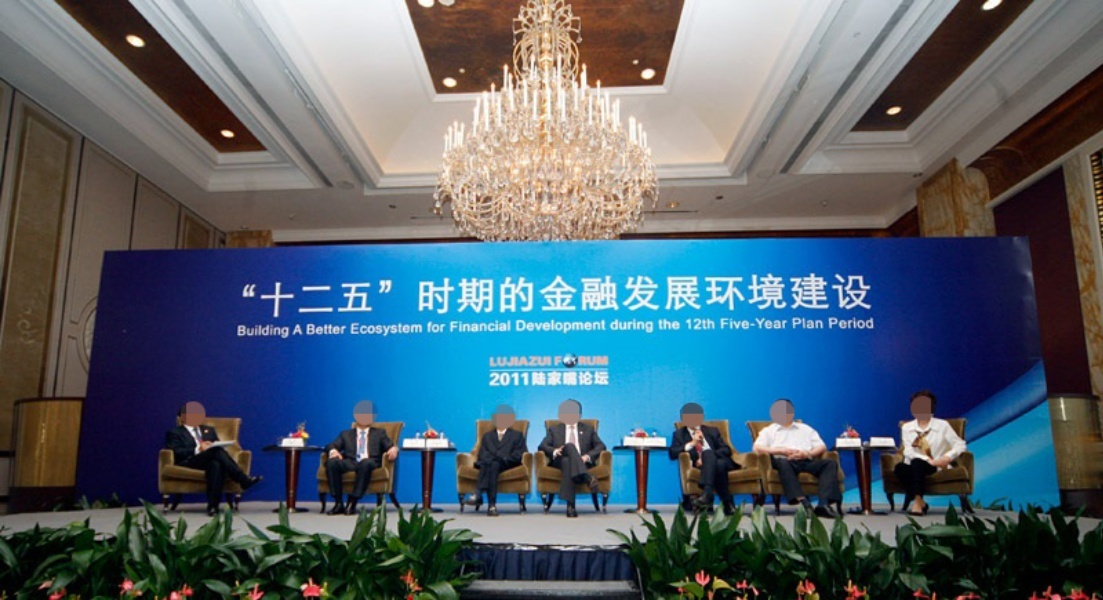text: (257, 272, 272, 318), (273, 272, 288, 318), (289, 272, 304, 318), (305, 272, 320, 318), (321, 272, 336, 318), (337, 272, 352, 318), (353, 272, 368, 318), (369, 272, 384, 318), (385, 272, 400, 318), (401, 272, 416, 318), (417, 272, 432, 318), (433, 272, 448, 318), (449, 272, 464, 318), (465, 272, 480, 318), (481, 272, 496, 318), (497, 272, 512, 318), (513, 272, 528, 318), (529, 272, 544, 318), (545, 272, 560, 318), (561, 272, 576, 318), (577, 272, 592, 318), (593, 272, 608, 318), (609, 272, 624, 318), (625, 272, 640, 318), (641, 272, 656, 318), (657, 272, 672, 318), (673, 272, 688, 318), (689, 272, 704, 318), (705, 272, 720, 318), (721, 272, 736, 318), (737, 272, 752, 318), (753, 272, 768, 318), (769, 272, 784, 318), (785, 272, 800, 318), (801, 272, 816, 318), (817, 272, 832, 318), (833, 272, 848, 318), (849, 272, 864, 318), (243, 272, 256, 318), (865, 272, 872, 318), (241, 323, 256, 340), (257, 323, 272, 340), (273, 323, 288, 340), (497, 372, 512, 387), (513, 372, 528, 387), (529, 372, 544, 387), (545, 372, 560, 387), (561, 372, 576, 387), (577, 372, 592, 387), (593, 372, 608, 387), (353, 322, 368, 337), (369, 322, 384, 337), (385, 322, 400, 337), (401, 322, 416, 337), (529, 319, 544, 334), (545, 319, 560, 334), (561, 319, 576, 334), (577, 319, 592, 334), (609, 319, 624, 334), (625, 319, 640, 334), (657, 318, 672, 333), (689, 318, 704, 332), (305, 323, 320, 336), (321, 323, 336, 336), (465, 321, 480, 334), (481, 321, 496, 334), (497, 321, 512, 334), (515, 319, 528, 334), (593, 319, 606, 334), (641, 319, 654, 334), (450, 321, 464, 334), (721, 318, 736, 330), (737, 318, 752, 330), (753, 318, 768, 330), (769, 318, 784, 330), (801, 318, 816, 330), (833, 318, 848, 330), (849, 318, 864, 330), (291, 323, 304, 336), (433, 321, 446, 334), (497, 356, 512, 367), (513, 356, 528, 367), (529, 356, 544, 367), (593, 356, 609, 366), (578, 356, 592, 366), (705, 318, 715, 332), (673, 318, 682, 333), (337, 323, 347, 336), (865, 318, 875, 330), (791, 318, 800, 330), (417, 322, 424, 337), (490, 372, 496, 387), (817, 318, 824, 330), (489, 356, 496, 367), (545, 356, 552, 367), (553, 356, 560, 366), (236, 323, 240, 340), (427, 321, 432, 334), (684, 318, 688, 332), (828, 318, 832, 330), (349, 322, 352, 337), (785, 318, 788, 330), (289, 323, 290, 340), (609, 372, 610, 387), (561, 356, 562, 366)
